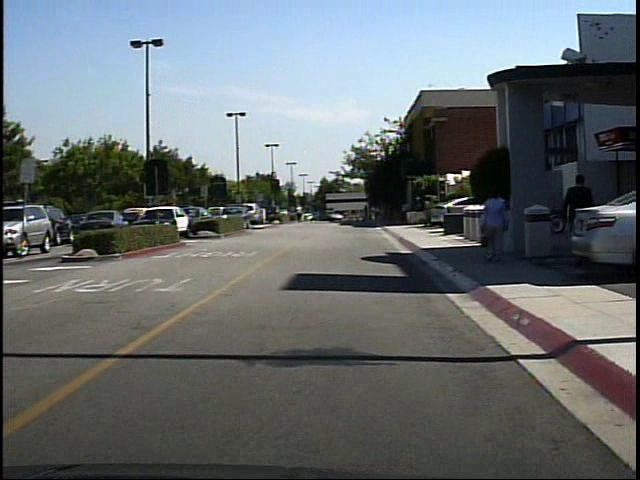person: (563, 166, 608, 272), (482, 187, 513, 266), (491, 189, 512, 264), (371, 204, 384, 228), (301, 202, 311, 227)
